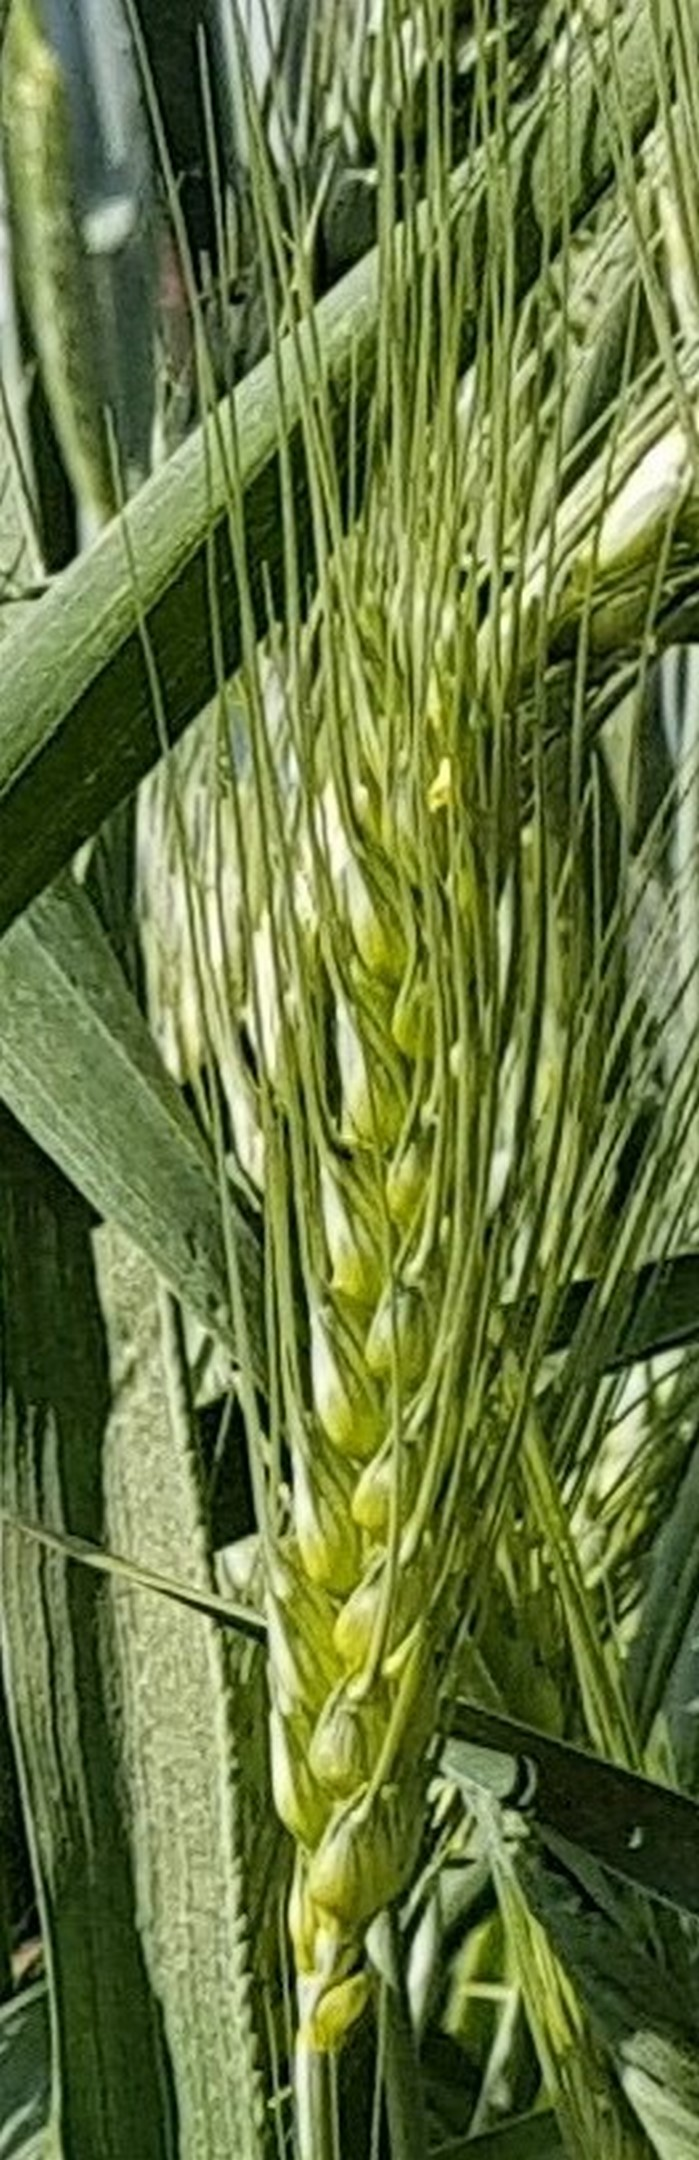Healthy Wheat: (239, 687, 505, 1924)
